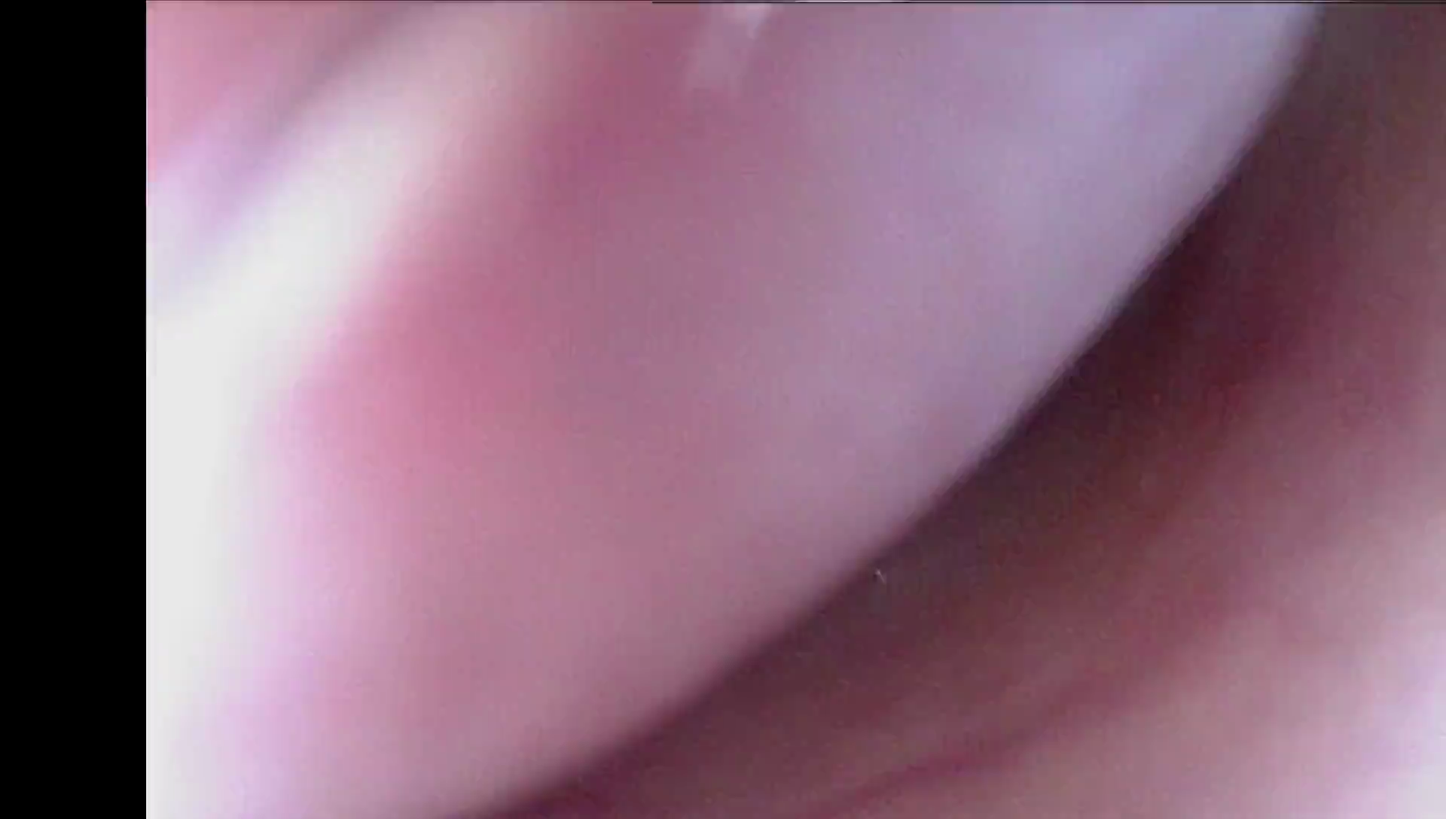close_wall: (154, 14, 837, 819), (1132, 508, 1446, 819)
next: (915, 174, 1262, 567)
